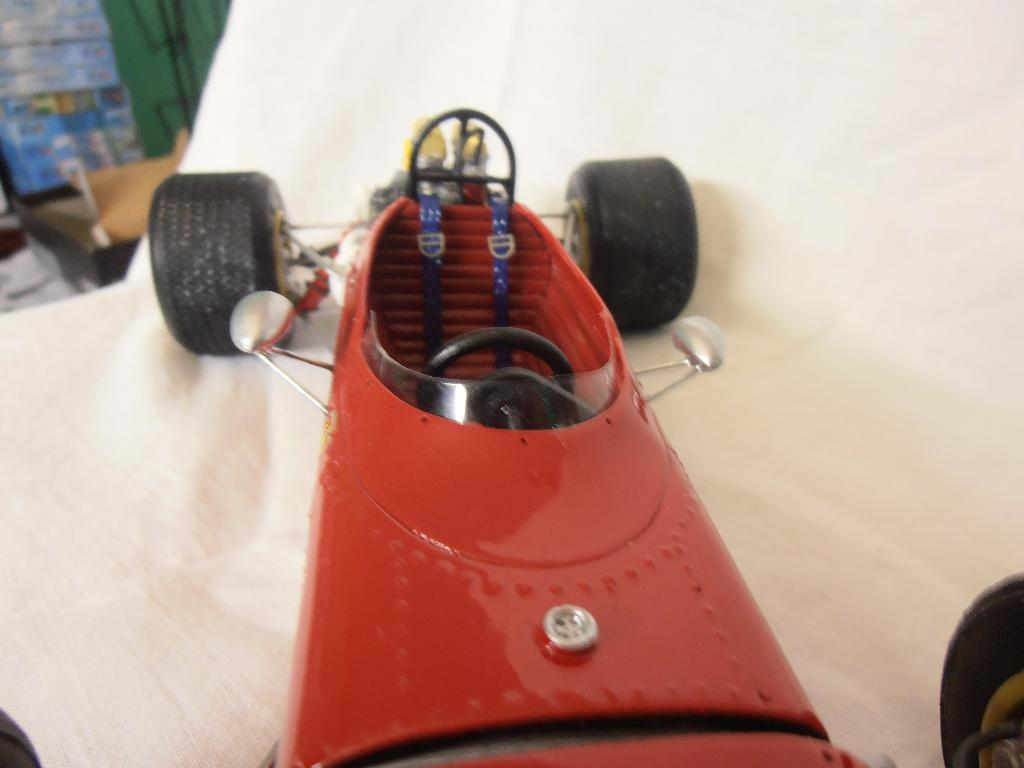Car: (0, 106, 1023, 767)
